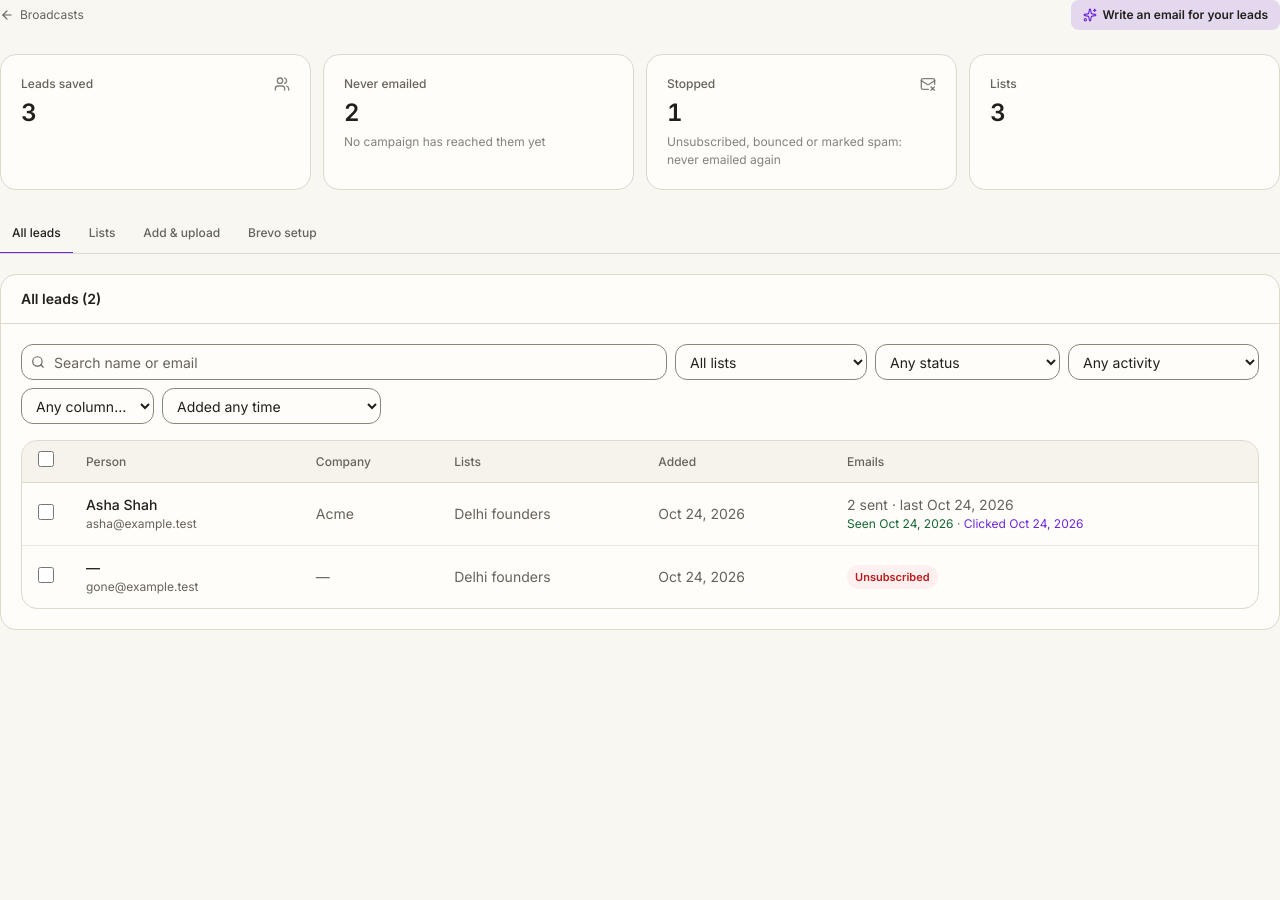
Test: the Leads page › the filters can be saved as a smart list
Expected: the table is shown, [22,441,1258,608]
Expected: the button "Save as smart list" is not shown
Step 1. Select "Clicked" in the dropdown named "Activity" → (1164, 362), box [1068,344,1259,380]
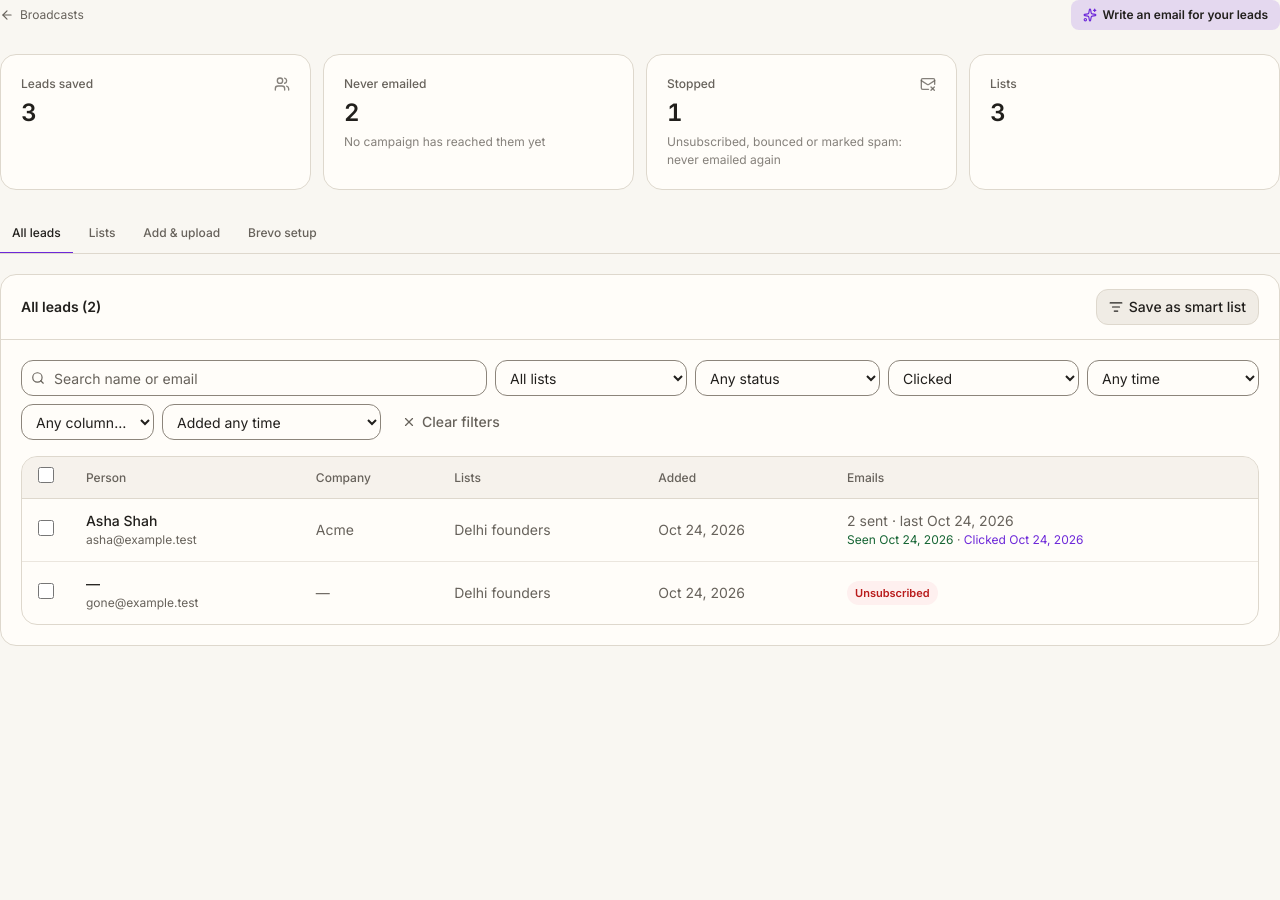
Step 2. Select "In the last 30 days" in the dropdown named "Within" → (1173, 378), box [1087,360,1259,396]
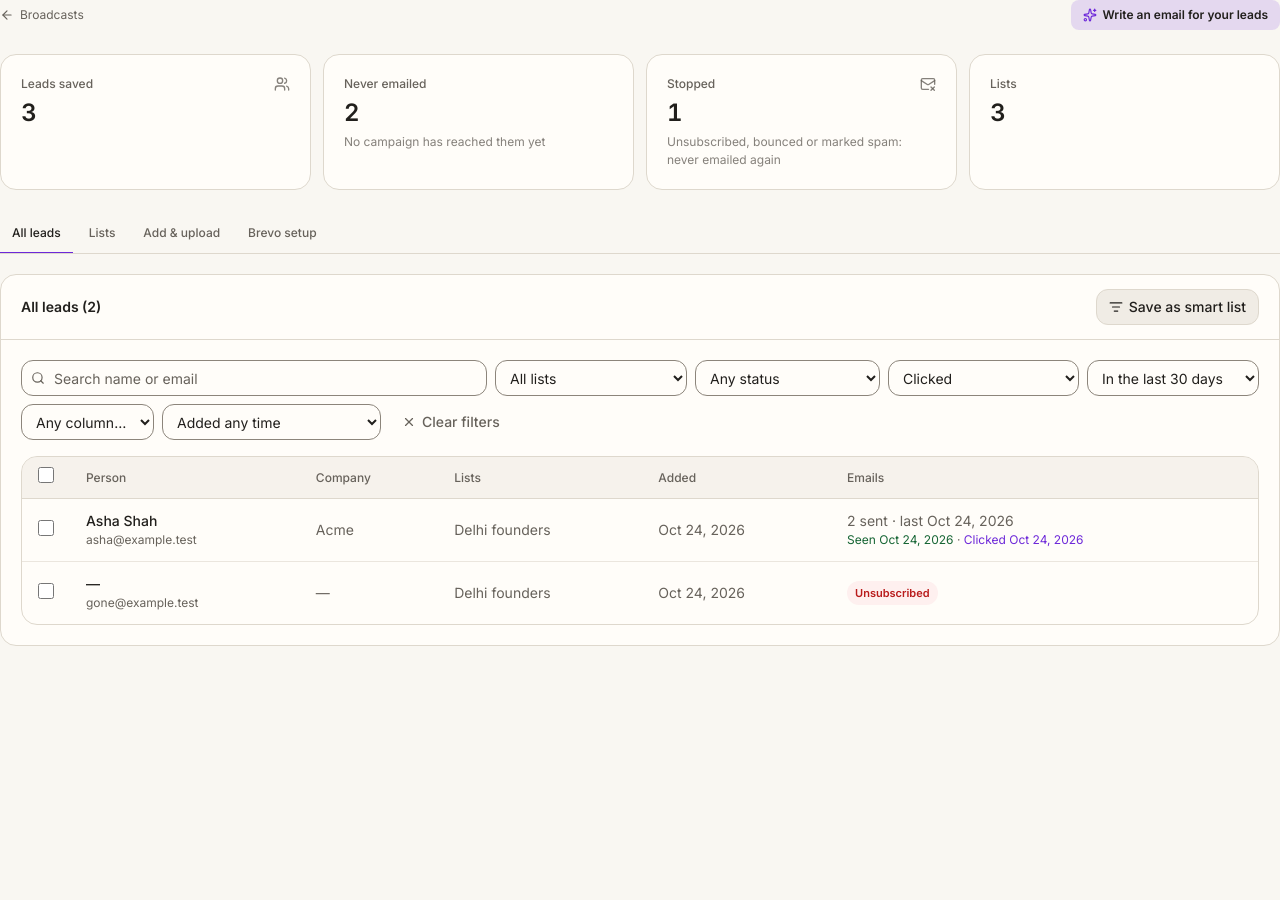
Step 3. Click the button "Save as smart list" → click(1177, 307), box [1096,289,1259,325]
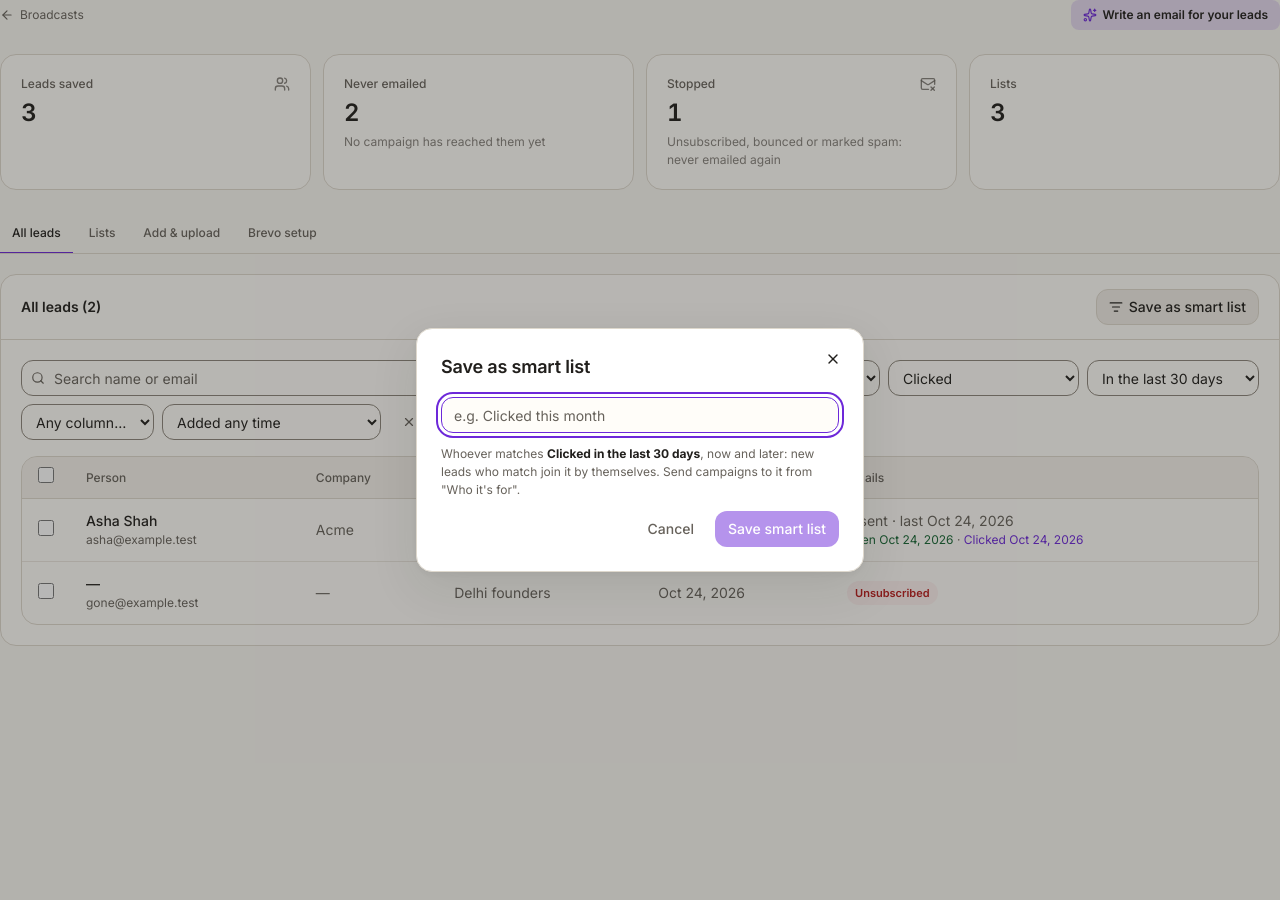
Now the text "Clicked in the last 30 days" is shown, box [547,446,700,461]
Step 4. Type "Clicked this month" into the field named "Smart list name" → (640, 415), box [441,397,839,433]
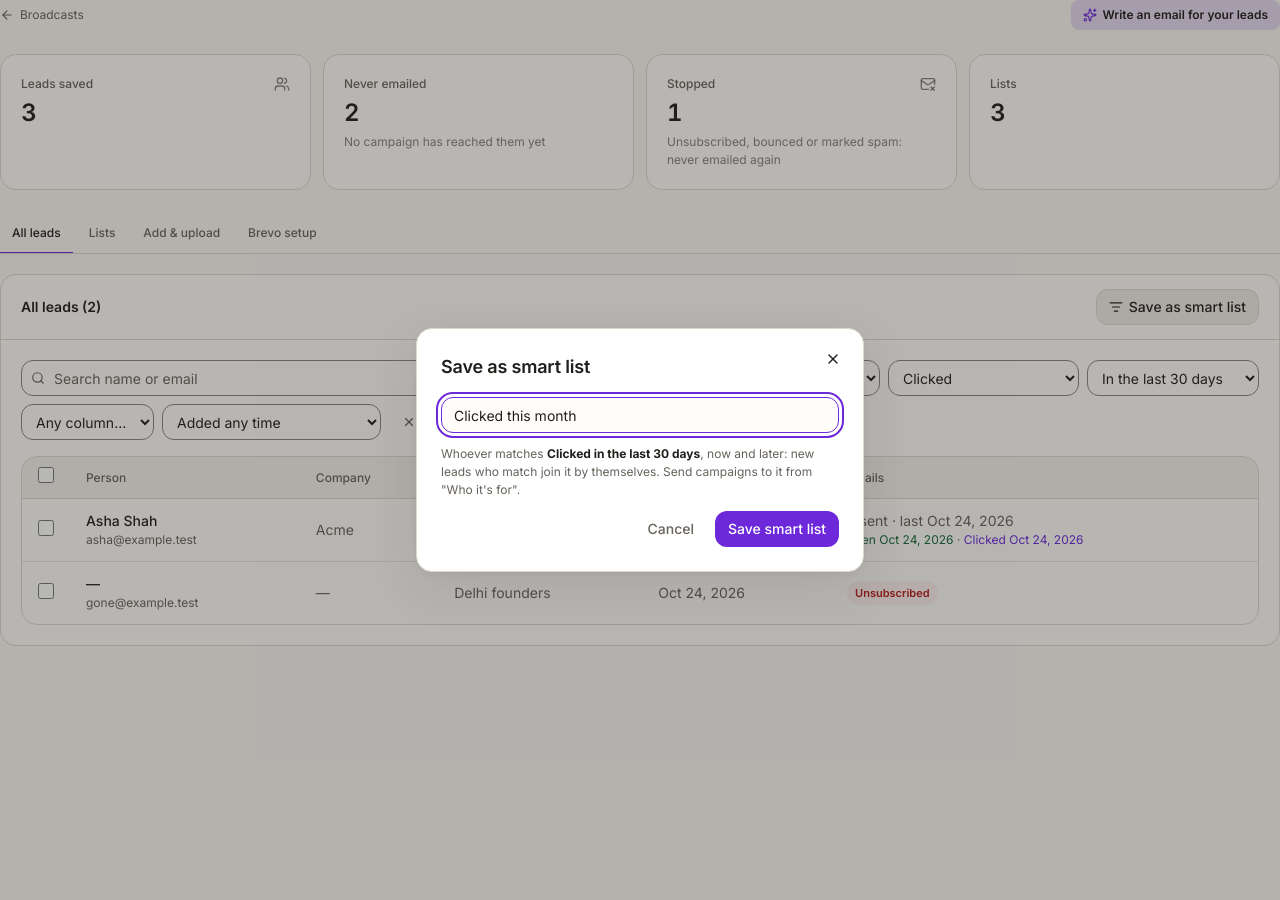
Step 5. Click the button "Save smart list" → click(777, 529), box [715,511,839,547]
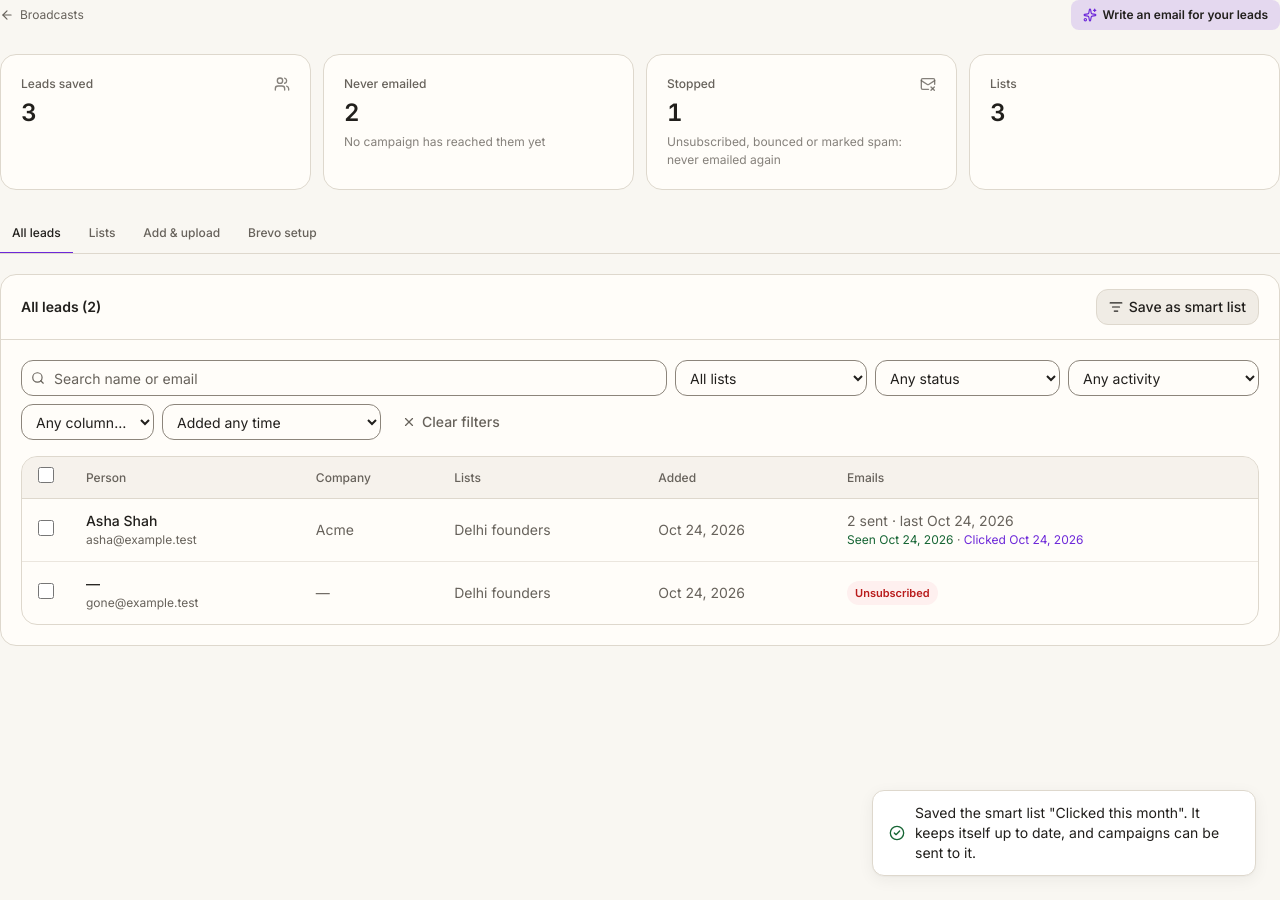
Now the text "Saved the smart list \"Clicked this month\"" is shown, box [915,804,1219,861]
